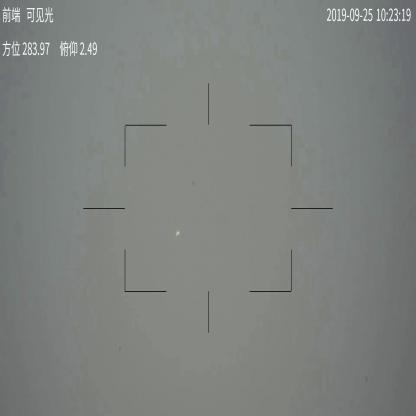uav: (175, 229, 181, 237)
